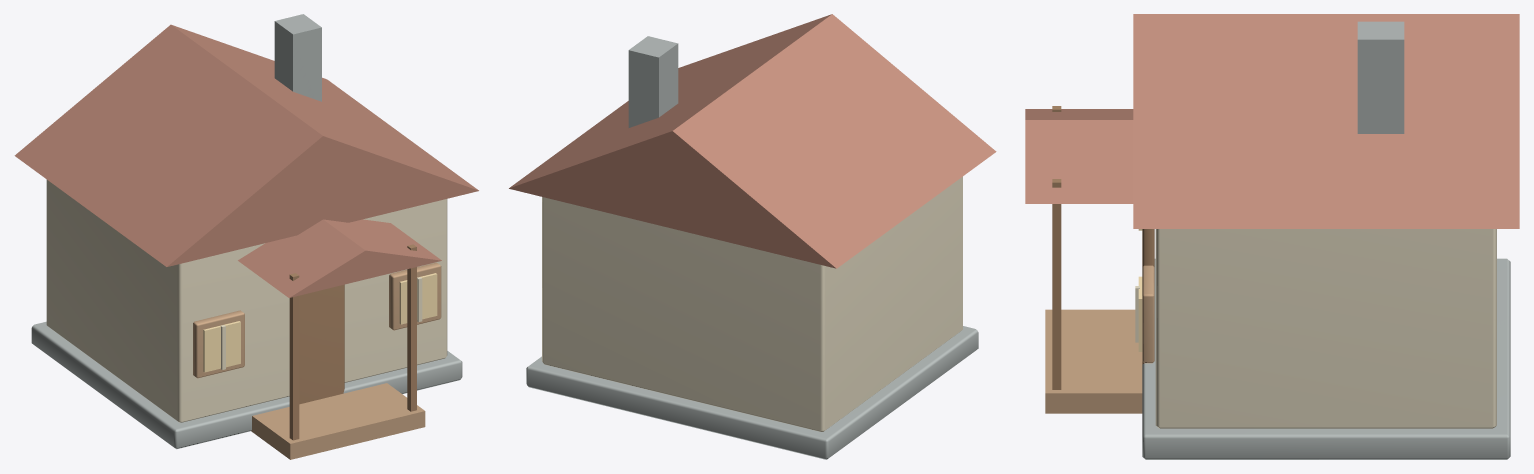
File: rose-cottage.glb
The picture shows the model from 3 angles, left to right: view 1: azimuth 30°, elevation 25°; view 2: azimuth 150°, elevation 25°; view 3: azimuth 270°, elevation 25°; orthographic projection. The views are drawn at different scales.
Visible parts, largest first — view 1: Rose cottage pitched roof, Rose cottage walls, Porch awning, Rose cottage stone footing, Timber porch, Rose cottage front door, Chimney, Porch post, Porch post.001, Warm pane, Window trim, Window trim.001 (+1 smaller); view 2: Rose cottage walls, Rose cottage pitched roof, Rose cottage stone footing, Chimney; view 3: Rose cottage pitched roof, Rose cottage walls, Rose cottage stone footing, Porch awning, Timber porch, Chimney, Porch post.001, Window trim.001.
Boxes of the visible parts, left/top/right/bottom form: Rose cottage pitched roof: left=14, top=24, right=478, bottom=266; Rose cottage walls: left=46, top=179, right=447, bottom=422; Porch awning: left=238, top=219, right=441, bottom=297; Rose cottage stone footing: left=31, top=321, right=462, bottom=449; Timber porch: left=251, top=383, right=425, bottom=459; Rose cottage front door: left=299, top=284, right=344, bottom=404; Chimney: left=274, top=14, right=321, bottom=101; Porch post: left=289, top=273, right=299, bottom=440; Porch post.001: left=407, top=244, right=416, bottom=411; Warm pane: left=203, top=321, right=240, bottom=372; Window trim: left=193, top=310, right=244, bottom=378; Window trim.001: left=389, top=262, right=441, bottom=330; Rose cottage walls: left=542, top=176, right=962, bottom=431; Rose cottage pitched roof: left=509, top=14, right=996, bottom=268; Rose cottage stone footing: left=526, top=326, right=978, bottom=459; Chimney: left=628, top=36, right=678, bottom=127; Rose cottage pitched roof: left=1133, top=14, right=1519, bottom=228; Rose cottage walls: left=1155, top=229, right=1496, bottom=428; Rose cottage stone footing: left=1142, top=258, right=1510, bottom=459; Porch awning: left=1025, top=109, right=1133, bottom=203; Timber porch: left=1045, top=309, right=1142, bottom=413; Chimney: left=1357, top=21, right=1404, bottom=133; Porch post.001: left=1052, top=179, right=1061, bottom=389; Window trim.001: left=1142, top=265, right=1154, bottom=363.
Size of the model in its own units: 5.1 by 4.75 by 5.5.
